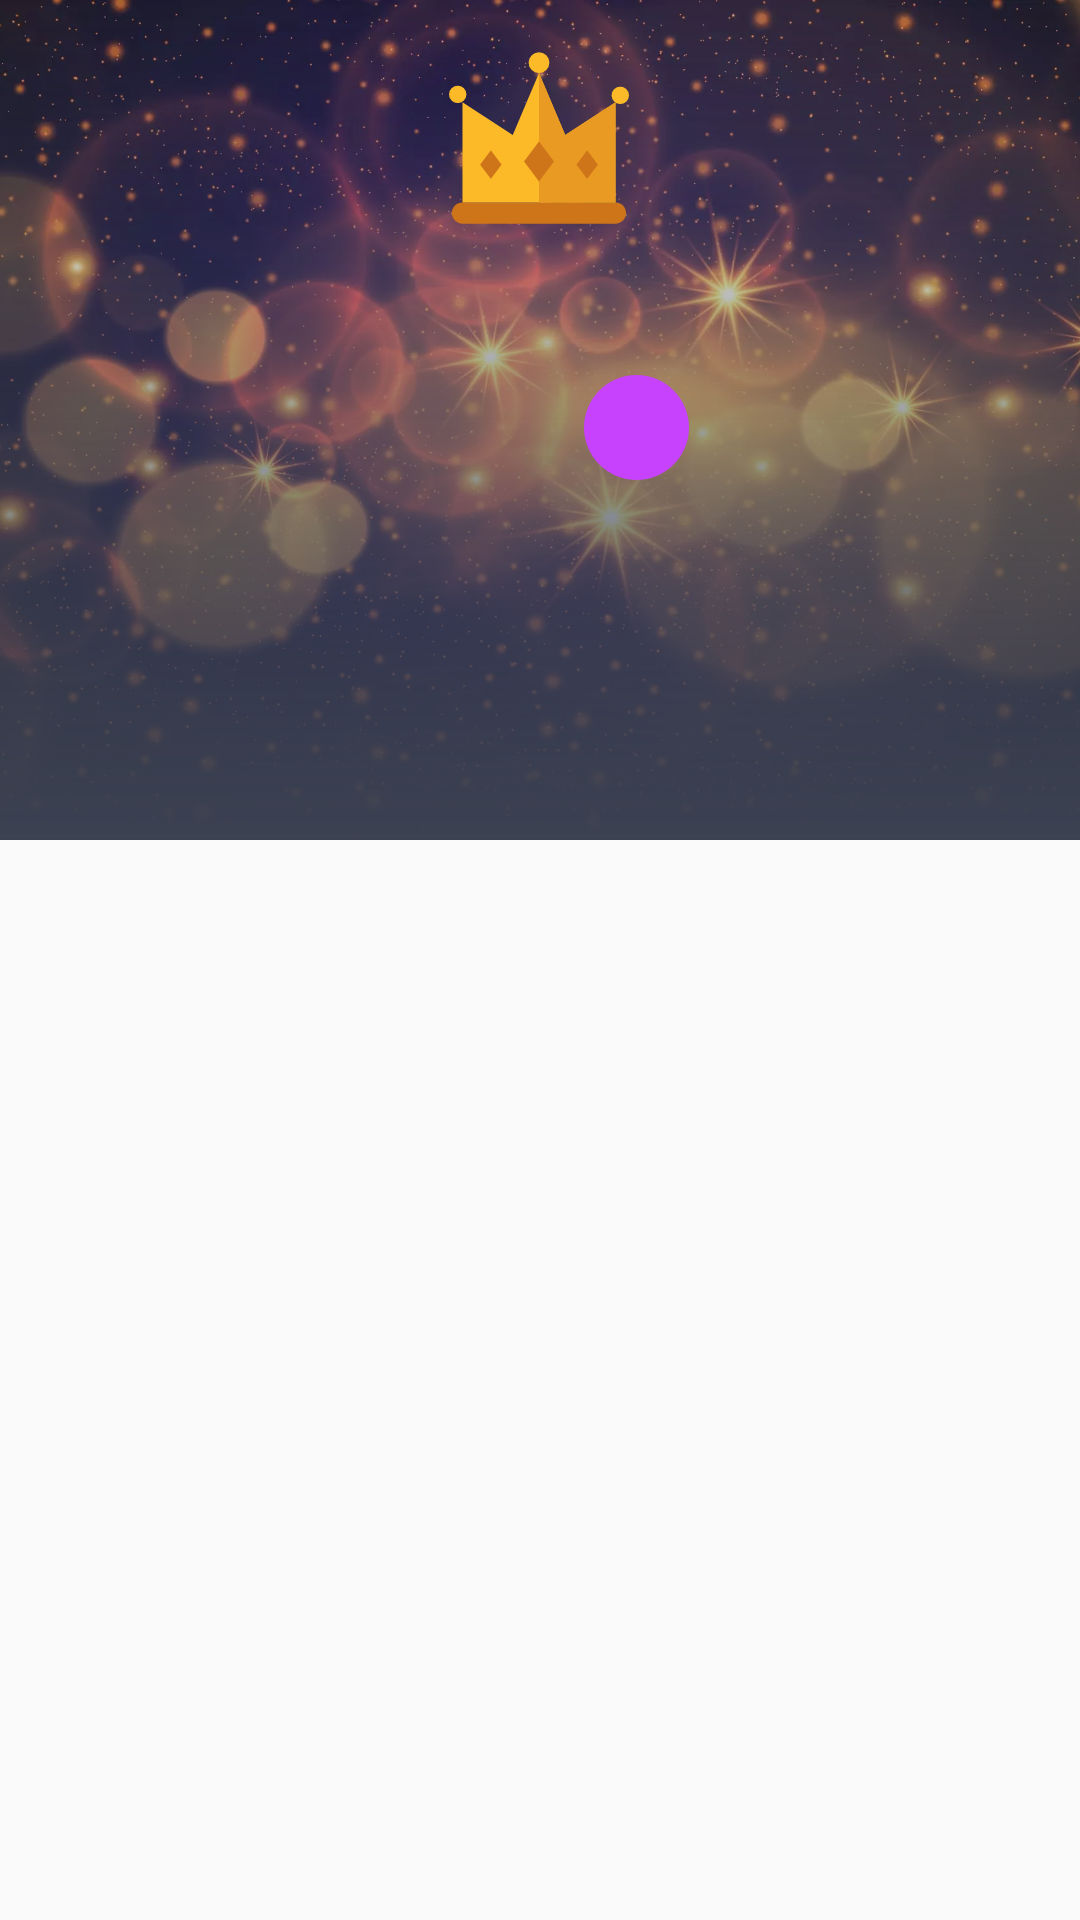

Screen size 1080px x 1920px. Icon name, then its center in pixels as (x=x, y=y):
crown: (x=539, y=138)
